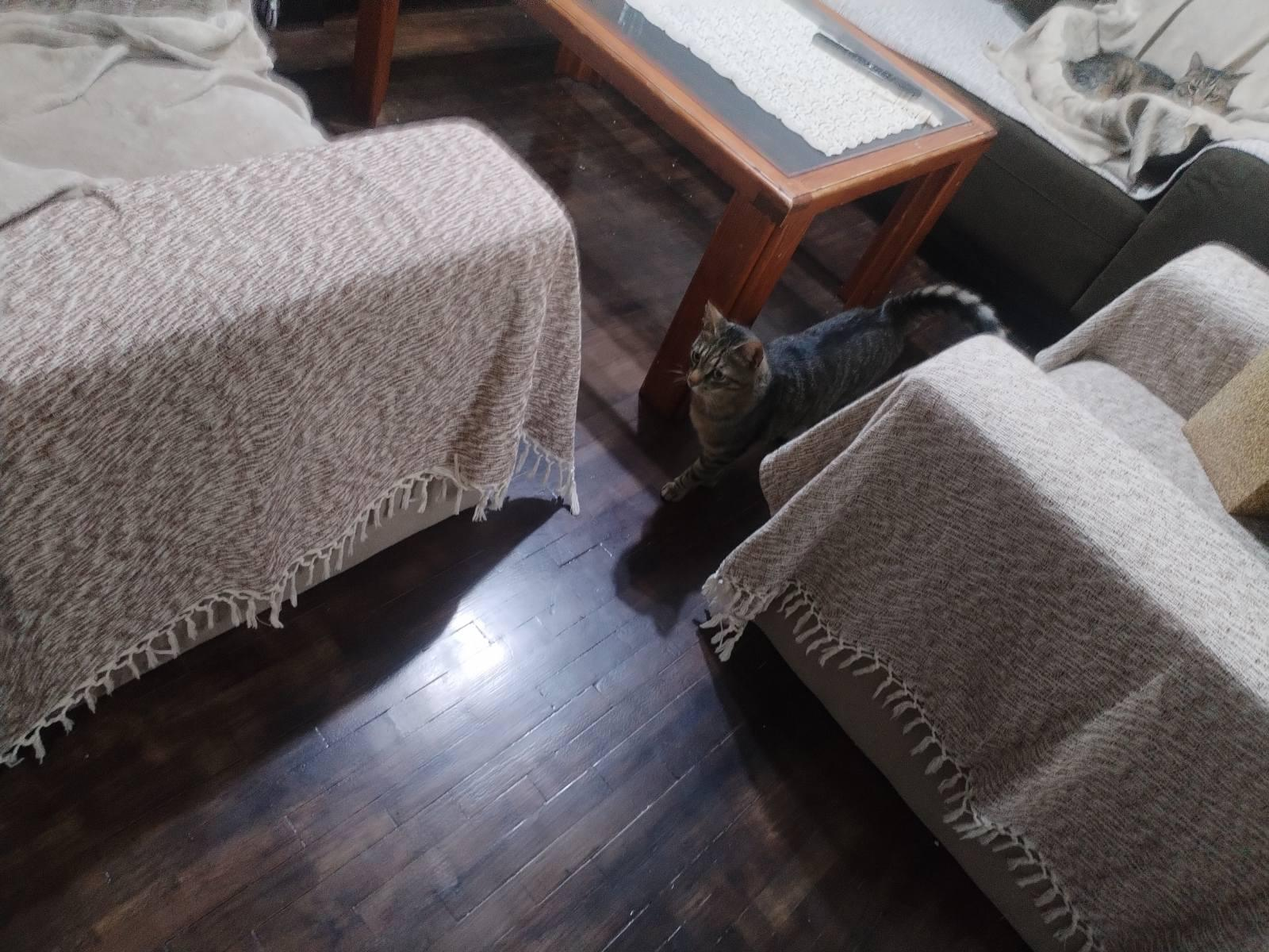macka: (654, 280, 1017, 516)
